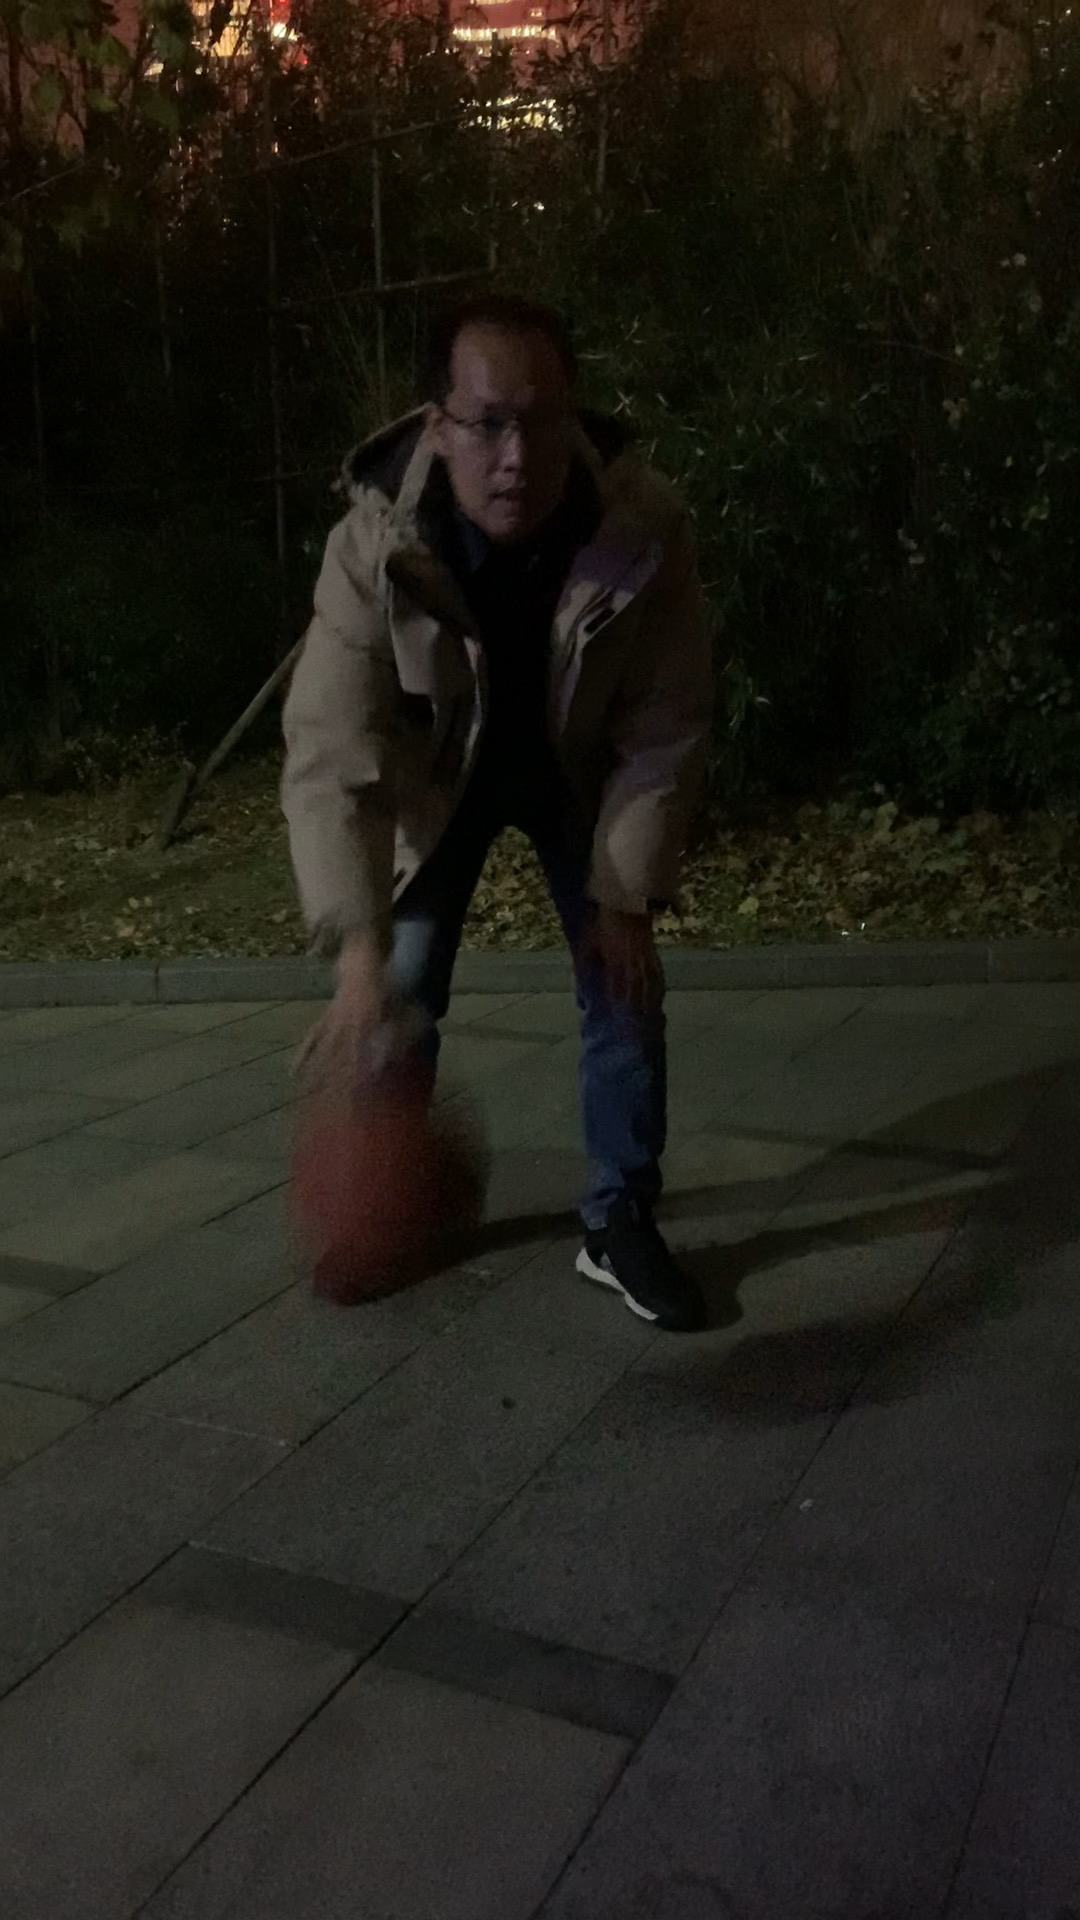ball: (287, 1084, 493, 1273)
